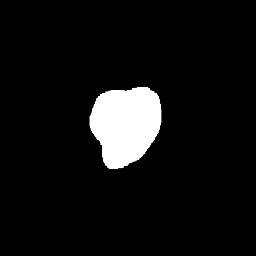mass: (94, 92, 158, 158)
